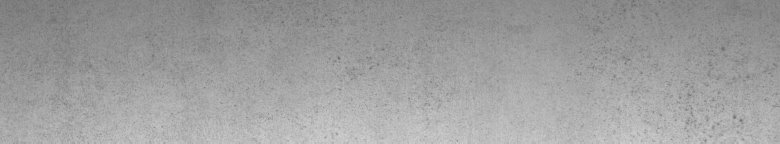ib: (306, 14, 440, 106)
